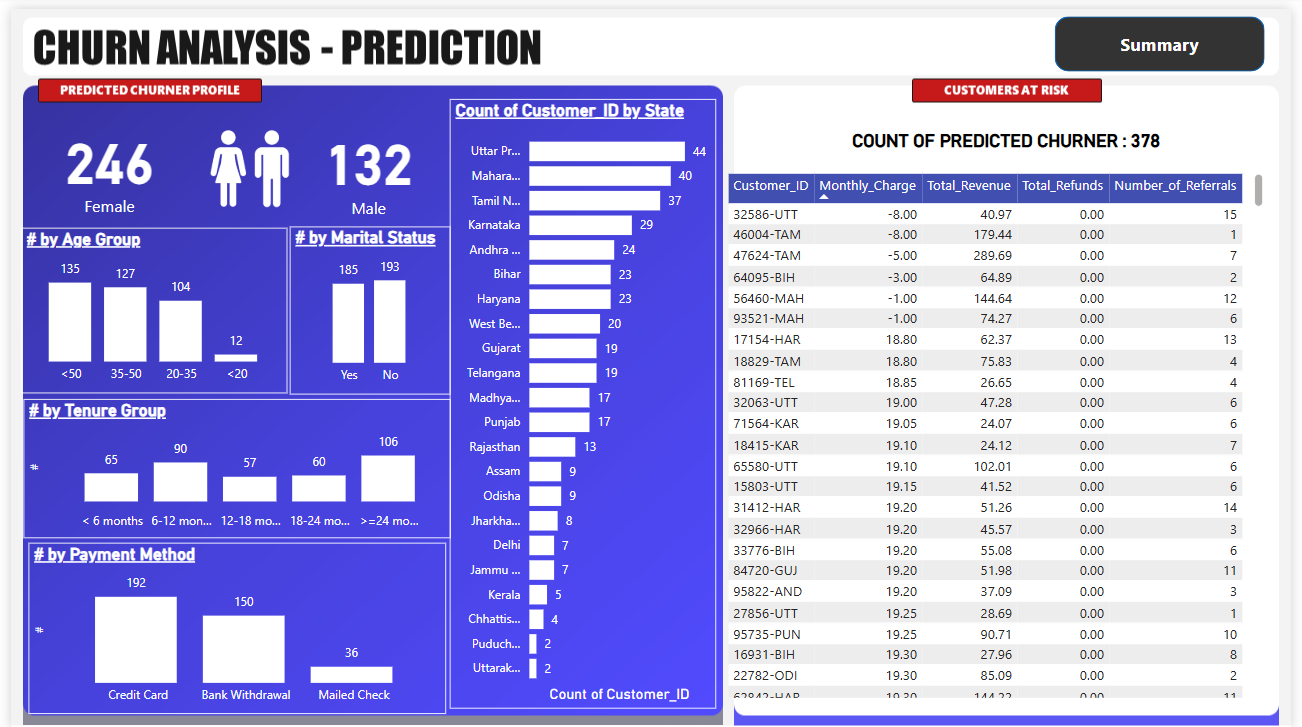

This screenshot's page, from the dashboard's own definition file:
{"tool":"powerbi","page":{"name":"Churn Prediction","canvas":[1280,720],"ordinal":1},"visuals":[{"type":"tableEx","fields":{"Values":["Predictions.Customer_ID","Predictions.Monthly_Charge","Predictions.Total_Revenue","Predictions.Total_Refunds","Predictions.Number_of_Referrals"]},"box":[710.8,160.5,546.1,533.8],"z":0},{"type":"card","fields":{"Values":["tbl_Measures.Title Predicted Churner"]},"box":[752,104.3,485.8,56.3],"z":1000},{"type":"card","fields":{"Values":["tbl_Measures.Count Predicted Churner"]},"box":[12.3,94.7,172.4,127.6],"z":2000},{"type":"card","fields":{"Values":["tbl_Measures.Count Predicted Churner"]},"box":[290.6,96.1,133.1,127.6],"z":3000},{"type":"clusteredColumnChart","title":"# by Age Group","fields":{"Category":["Age_grp.Age Group"],"Y":["CountNonNull(Predictions.Customer_ID)"]},"box":[9.6,218.2,266.5,165.2],"z":4000},{"type":"clusteredColumnChart","title":"# by Marital Status","fields":{"Category":["Predictions.Married"],"Y":["CountNonNull(Predictions.Customer_ID)"]},"box":[278.6,217.9,161.1,167.7],"z":5000},{"type":"clusteredColumnChart","title":"# by Tenure Group","fields":{"Y":["CountNonNull(Predictions.Customer_ID)"],"Category":["Tenure_grp.Tenure_Month"]},"box":[12.3,389.7,427.3,138.9],"z":6000},{"type":"clusteredColumnChart","title":"# by Payment Method","fields":{"Y":["CountNonNull(Predictions.Customer_ID)"],"Category":["Predictions.Payment_Method"]},"box":[17.8,533.8,418,171.5],"z":7000},{"type":"clusteredBarChart","fields":{"Category":["Predictions.State"],"Y":["CountNonNull(Predictions.Customer_ID)"]},"box":[439.1,90.6,266.2,609.5],"z":8000},{"type":"image","box":[185.2,94.7,107,127.9],"z":9000},{"type":"shape","box":[1043.7,7.4,209.9,54.9],"z":10000}]}

Visuals, with their boxes in screenshot pixels (x1, y1, x2, y2), scaled from the page's 1280x720 canvas onto the 1302x727 screenshot:
tableEx - Predictions.Customer_ID x Predictions.Monthly_Charge: l=723, t=162, r=1279, b=701
card - tbl_Measures.Title Predicted Churner: l=765, t=105, r=1259, b=162
card - tbl_Measures.Count Predicted Churner: l=13, t=96, r=188, b=224
card - tbl_Measures.Count Predicted Churner: l=296, t=97, r=431, b=226
"# by Age Group" clusteredColumnChart: l=10, t=220, r=281, b=387
"# by Marital Status" clusteredColumnChart: l=283, t=220, r=447, b=389
"# by Tenure Group" clusteredColumnChart: l=13, t=393, r=447, b=534
"# by Payment Method" clusteredColumnChart: l=18, t=539, r=443, b=712
clusteredBarChart - Predictions.State x CountNonNull(Predictions.Customer_ID): l=447, t=91, r=717, b=707
image: l=188, t=96, r=297, b=225
shape: l=1062, t=7, r=1275, b=63
